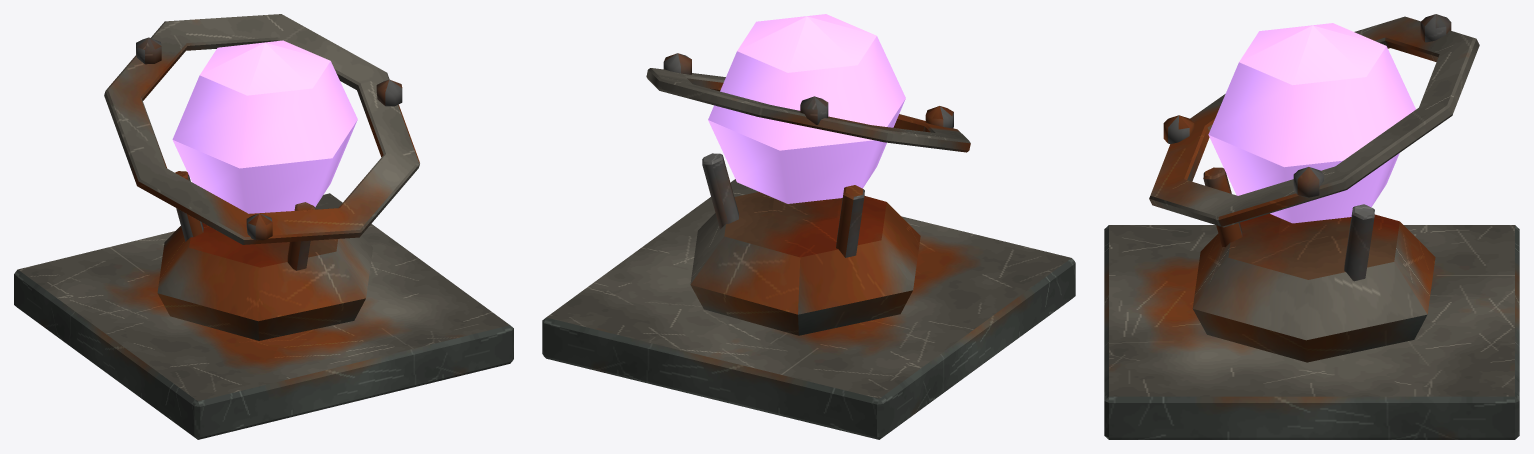
Rendered from R4X_OrbAmplifier_LOD1.glb.
3 views of the same model, side by side, from view 1: azimuth 30°, elevation 25°; view 2: azimuth 150°, elevation 25°; view 3: azimuth 270°, elevation 25° (orthographic). The views are drawn at different scales.
Visible parts, largest first — view 1: R4X_OrbAmplifier_LOD1; view 2: R4X_OrbAmplifier_LOD1; view 3: R4X_OrbAmplifier_LOD1.
Boxes of the visible parts, x1,y1,x2,y2 form: R4X_OrbAmplifier_LOD1: [14, 14, 513, 439]; R4X_OrbAmplifier_LOD1: [542, 14, 1075, 439]; R4X_OrbAmplifier_LOD1: [1104, 14, 1519, 439].
Size of the model in its own units: 0.52 by 0.455 by 0.52.
5 materials, 4 textured.
